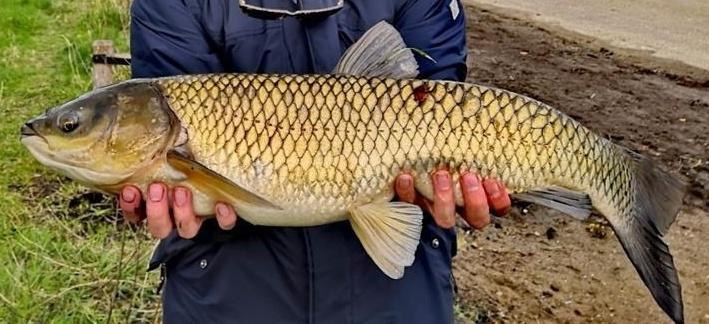Grass Carp: (16, 22, 685, 323)
